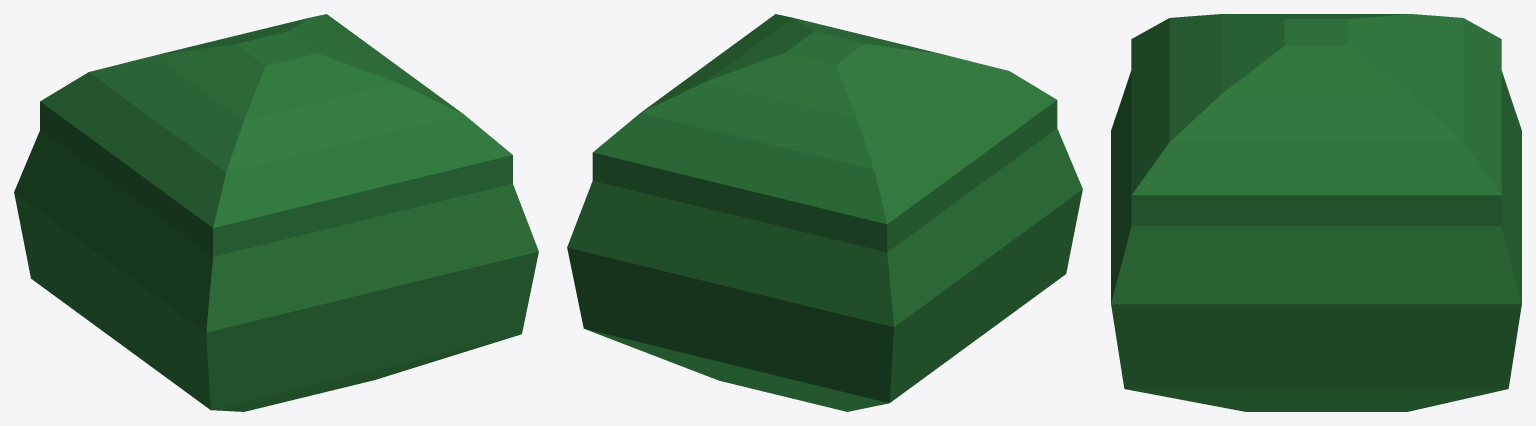
File: small_bush.glb
The picture shows the model from 3 angles, left to right: view 1: azimuth 30°, elevation 25°; view 2: azimuth 150°, elevation 25°; view 3: azimuth 270°, elevation 25°; orthographic projection. The views are drawn at different scales.
Visible parts, largest first — view 1: Cube.002; view 2: Cube.002; view 3: Cube.002.
Part boxes in pixels (<box>): Cube.002: <box>14,14,538,411</box>; Cube.002: <box>567,14,1082,411</box>; Cube.002: <box>1111,14,1521,411</box>.
Size of the model in its own units: 5.09 by 4.73 by 5.09.
